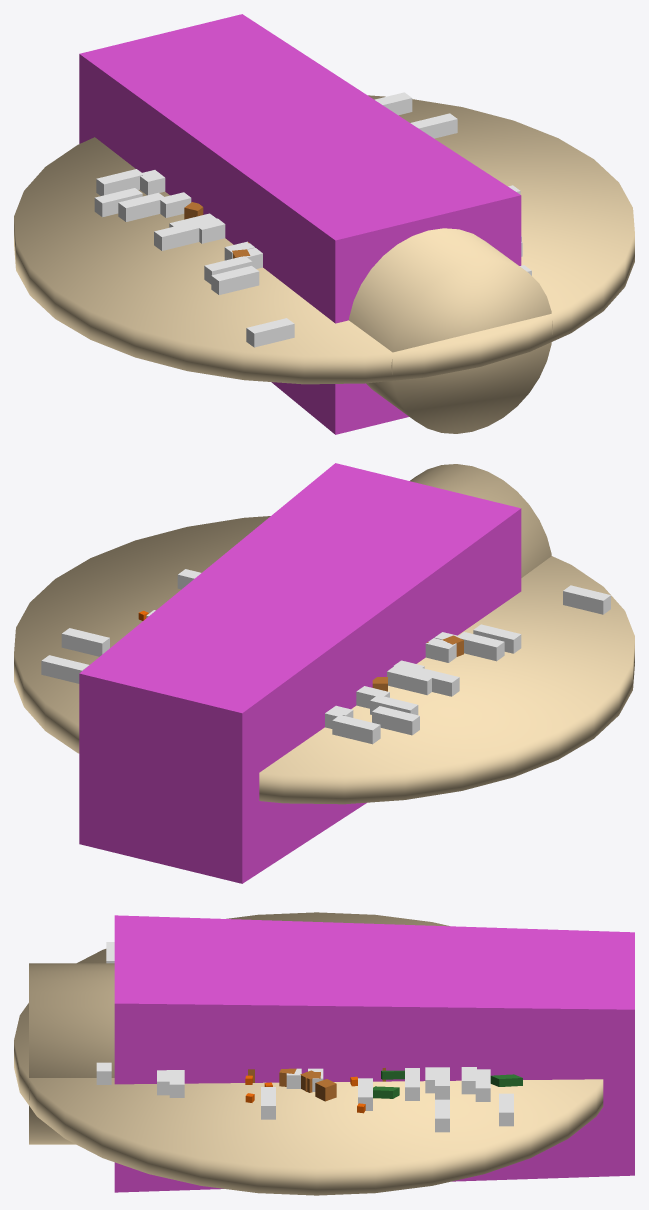
Rendered from Suri.fbx.
3 renders of one model, top to bottom at view 1: azimuth 30°, elevation 25°; view 2: azimuth 150°, elevation 25°; view 3: azimuth 270°, elevation 25°, orthographic. The views are drawn at different scales.
Parts seen in each view (by area): view 1: Bag, SuriBread, Wrap, Cheese; view 2: Bag, SuriBread, Cheese, Wrap; view 3: Bag, SuriBread, Wrap, Cheese, Chicken, Pepper.
Part boxes in pixels (bbox=[...]): Bag: bbox=[79, 14, 521, 434]; SuriBread: bbox=[14, 95, 634, 384]; Wrap: bbox=[349, 228, 552, 433]; Cheese: bbox=[94, 92, 531, 347]; Bag: bbox=[79, 463, 521, 883]; SuriBread: bbox=[14, 516, 634, 804]; Cheese: bbox=[41, 569, 610, 744]; Wrap: bbox=[410, 464, 551, 577]; Bag: bbox=[114, 915, 634, 1192]; SuriBread: bbox=[14, 912, 603, 1195]; Wrap: bbox=[29, 963, 114, 1144]; Cheese: bbox=[96, 942, 513, 1132]; Chicken: bbox=[248, 1067, 385, 1101]; Pepper: bbox=[373, 1070, 522, 1098].
Size of the model in its own units: 200 by 68.93 by 205.
